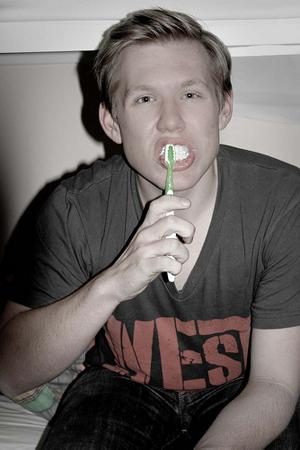person: (1, 12, 300, 450)
